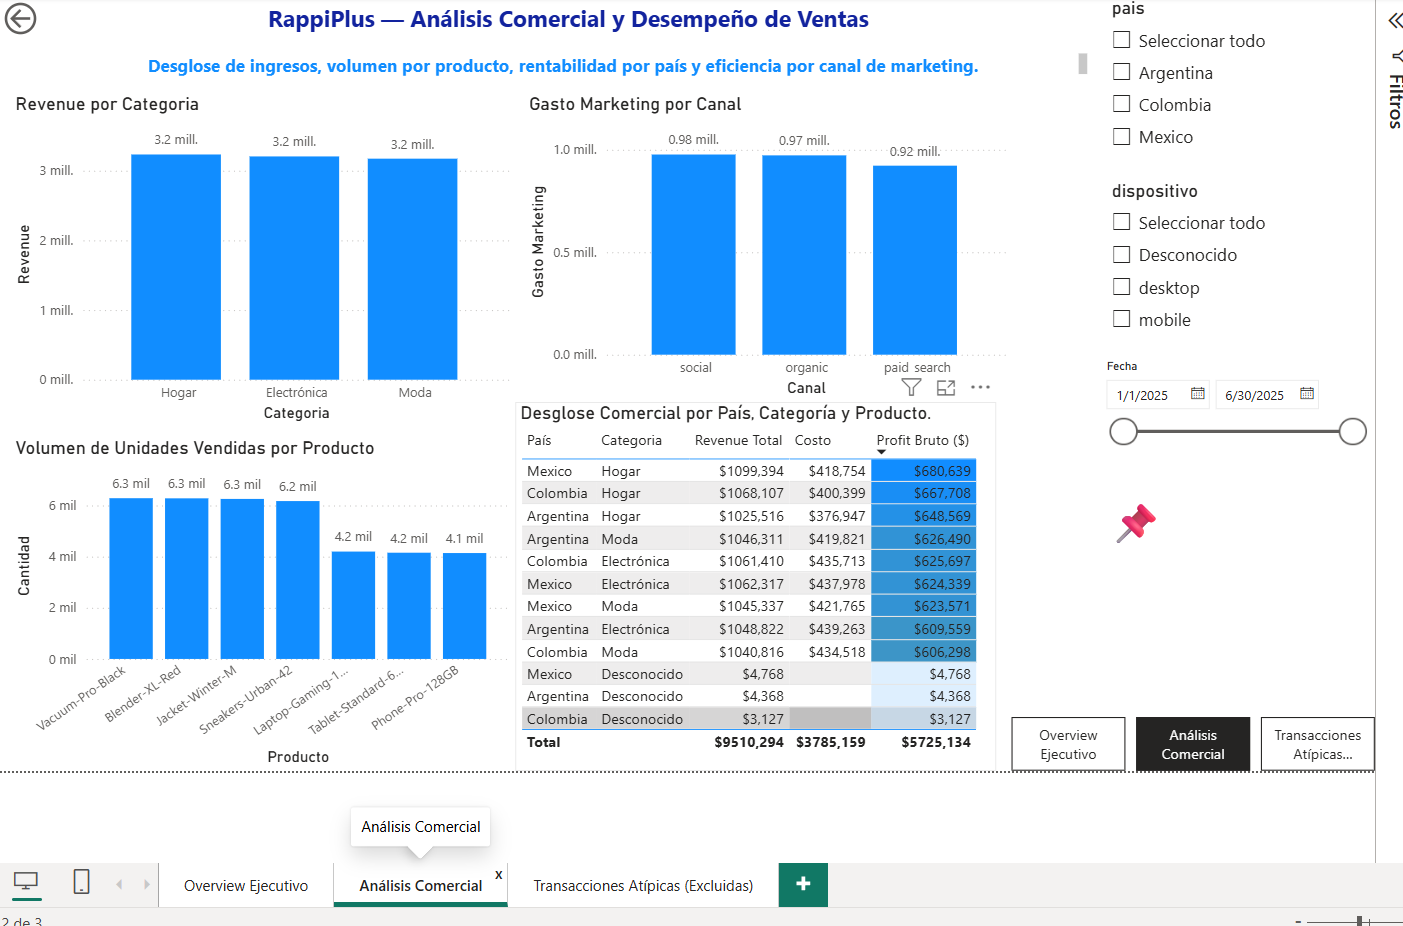

The dashboard page shown, as its layout file describes it:
{"tool":"powerbi","page":{"name":"Análisis Comercial","canvas":[1280,720],"ordinal":1},"visuals":[{"type":"clusteredColumnChart","fields":{"Y":["orders_clean.Revenue Total"],"Category":["orders_clean.categoria_producto"]},"box":[10.5,89.5,469.8,310.5],"z":0},{"type":"clusteredColumnChart","title":"Volumen de Unidades Vendidas por Producto","fields":{"Y":["Sum(orders_clean.cantidad)"],"Category":["orders_clean.nombre_producto"]},"box":[10.5,409.3,469.8,310.5],"z":1000},{"type":"clusteredColumnChart","fields":{"Y":["orders_clean.Gasto Marketing Total"],"Category":["marketing_clean.canal"]},"box":[488.4,89.5,453.5,287.2],"z":2000},{"type":"tableEx","title":"Desglose Comercial por País, Categoría y Producto.","fields":{"Values":["orders_clean.pais","orders_clean.categoria_producto","orders_clean.Revenue Total","orders_clean.Costo Total","orders_clean.Profit Bruto"]},"box":[480.2,376.7,447.7,343],"z":3000},{"type":"listSlicer","fields":{"Values":["marketing_clean.pais"]},"box":[1030.2,0,250,155.8],"z":4000},{"type":"listSlicer","fields":{"Values":["orders_clean.dispositivo"]},"box":[1030.2,169.8,250,150],"z":5000},{"type":"slicer","fields":{"Values":["Dim_Fecha.Date"]},"box":[1017.4,331.4,262.8,126.7],"z":6000},{"type":"actionButton","box":[0,0,100,40],"z":7000},{"type":"textbox","box":[40.7,0,977.9,47.7],"z":8000},{"type":"textbox","box":[39.5,47.7,977.9,30.2],"z":9000},{"type":"textbox","box":[1017.4,458.1,81.4,73.3],"z":10000},{"type":"pageNavigator","box":[941.9,669.8,338.4,50],"z":10001}]}

Visuals, with their boxes on the page's 1280x720 design canvas (x1, y1, x2, y2). These are canvas units, not pixel positions in the 1403x926 screenshot, which may show the page scaled, cropped or inside an application window:
clusteredColumnChart - orders_clean.Revenue Total x orders_clean.categoria_producto: l=10, t=90, r=480, b=400
"Volumen de Unidades Vendidas por Producto" clusteredColumnChart: l=10, t=409, r=480, b=720
clusteredColumnChart - orders_clean.Gasto Marketing Total x marketing_clean.canal: l=488, t=90, r=942, b=377
"Desglose Comercial por País, Categoría y Producto." tableEx: l=480, t=377, r=928, b=720
listSlicer - marketing_clean.pais: l=1030, t=0, r=1280, b=156
listSlicer - orders_clean.dispositivo: l=1030, t=170, r=1280, b=320
slicer - Dim_Fecha.Date: l=1017, t=331, r=1280, b=458
actionButton: l=0, t=0, r=100, b=40
textbox: l=41, t=0, r=1019, b=48
textbox: l=40, t=48, r=1017, b=78
textbox: l=1017, t=458, r=1099, b=531
pageNavigator: l=942, t=670, r=1280, b=720
